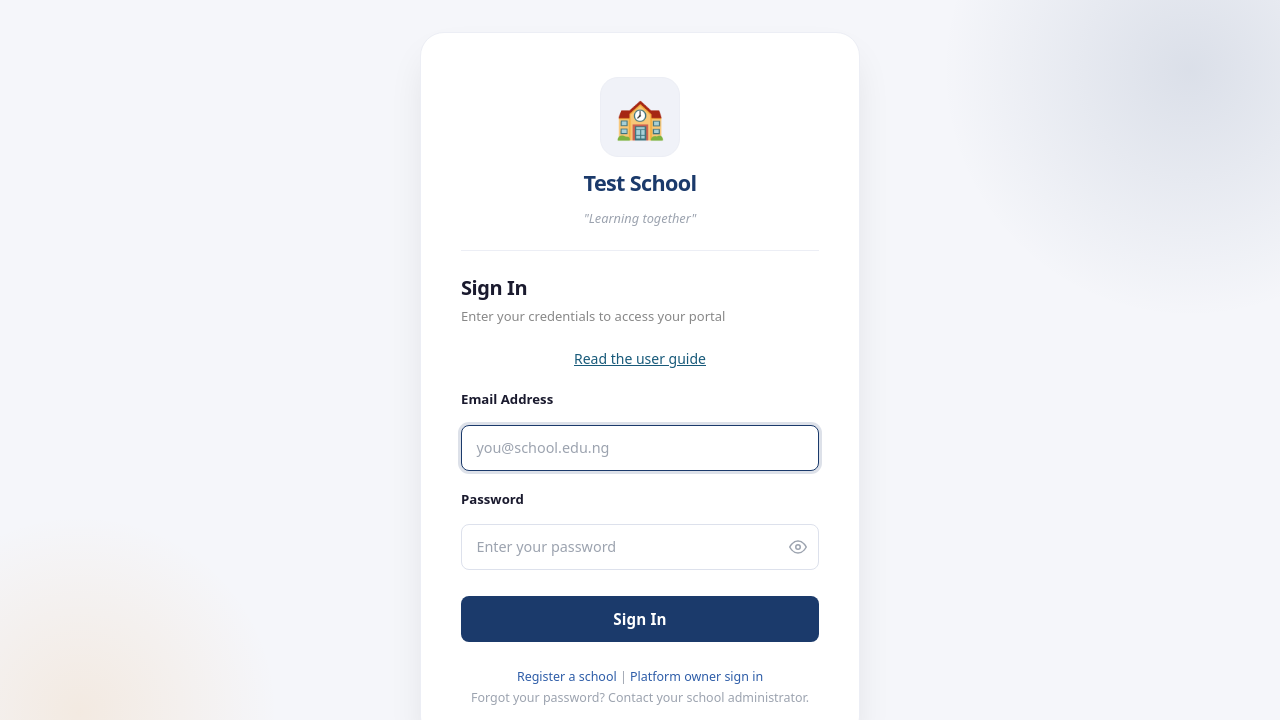
Test: Login Page › Form Validation › should show error for invalid email format
Type "invalid-email" into the field labelled "Email Address" at (640, 448), box top-left (461, 425), bottom-right (819, 471)
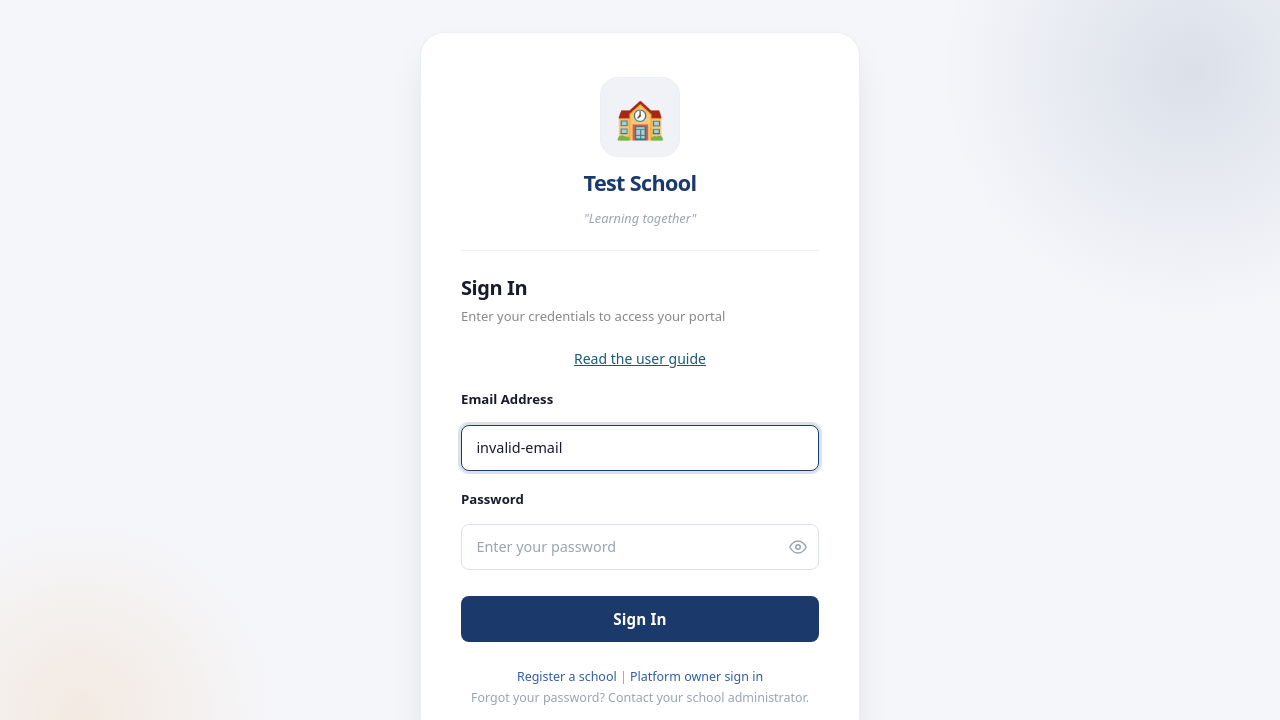
Type "password123" into the password field labelled "Password" at (640, 547), box top-left (461, 524), bottom-right (819, 570)
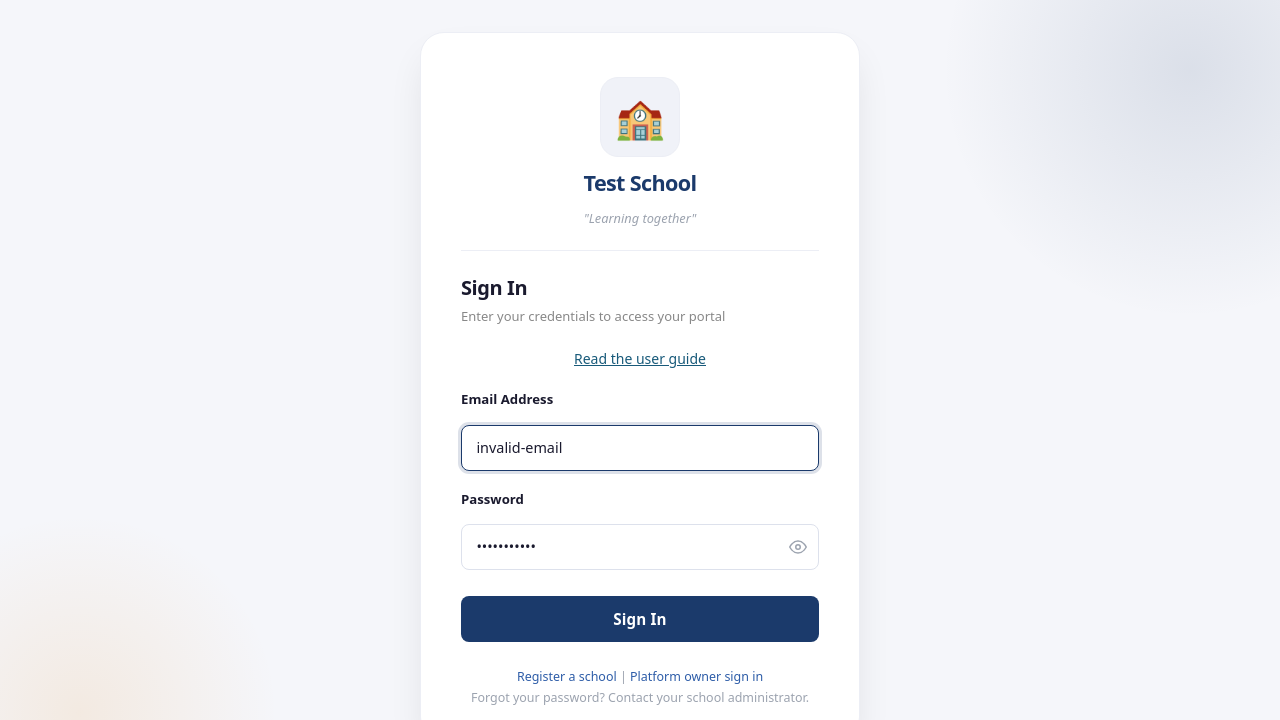
Click the button "Sign In" at (640, 619), box top-left (461, 596), bottom-right (819, 642)
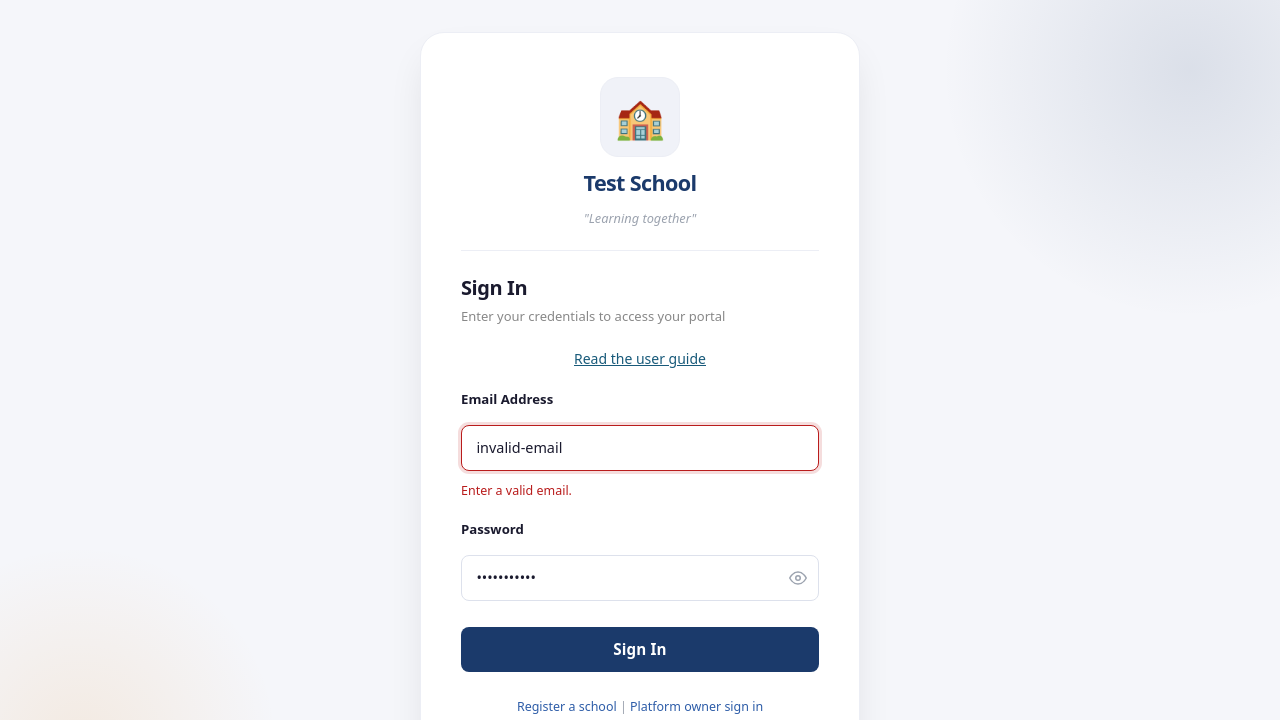
Now the text "Enter a valid email." is shown, box top-left (461, 482), bottom-right (572, 499)
